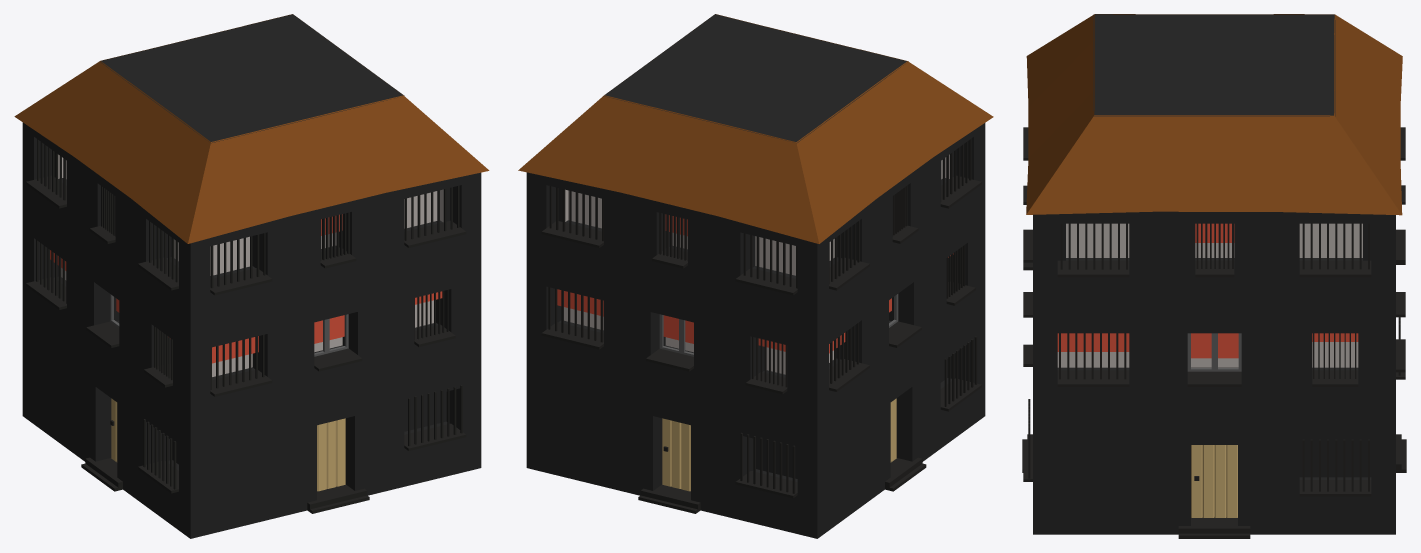
File: CasaProcedural_15.fbx
The picture shows the model from 3 angles, left to right: view 1: azimuth 30°, elevation 25°; view 2: azimuth 150°, elevation 25°; view 3: azimuth 270°, elevation 25°; orthographic projection. The views are drawn at different scales.
Visible parts, largest first — view 1: Procedural_Building; view 2: Procedural_Building; view 3: Procedural_Building.
Part boxes in pixels (left/top/right/bottom): Procedural_Building: left=14, top=14, right=489, bottom=538; Procedural_Building: left=518, top=14, right=993, bottom=538; Procedural_Building: left=1022, top=14, right=1406, bottom=538.
Bounding box in the file's own units: 318 × 359 × 318.
